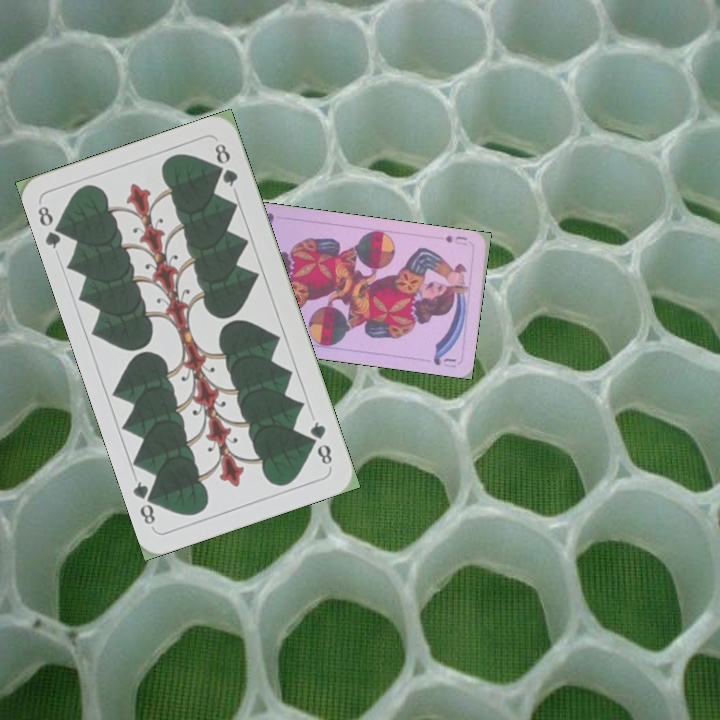G8: (33, 202, 69, 252), (306, 417, 335, 468)
SU: (441, 231, 470, 245)
